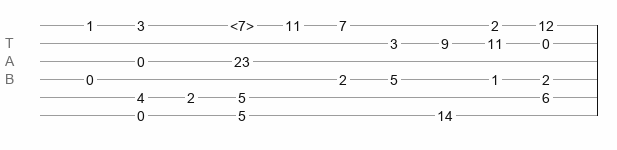0: (86, 72, 94, 82), (137, 54, 145, 64), (137, 108, 145, 118), (542, 36, 550, 46)
1: (86, 18, 94, 28), (491, 72, 499, 82)
11: (285, 18, 301, 28), (487, 36, 503, 46)
12: (538, 18, 554, 28)
14: (437, 108, 453, 118)
2: (187, 90, 195, 100), (339, 72, 347, 82), (491, 18, 499, 28), (542, 72, 550, 82)
23: (234, 54, 250, 64)
3: (137, 18, 145, 28), (390, 36, 398, 46)
4: (137, 90, 145, 100)
5: (238, 108, 246, 118), (238, 90, 246, 100), (390, 72, 398, 82)
6: (542, 90, 550, 100)
7: (339, 18, 347, 28)
9: (441, 36, 449, 46)
harmonic: (230, 18, 254, 28)
